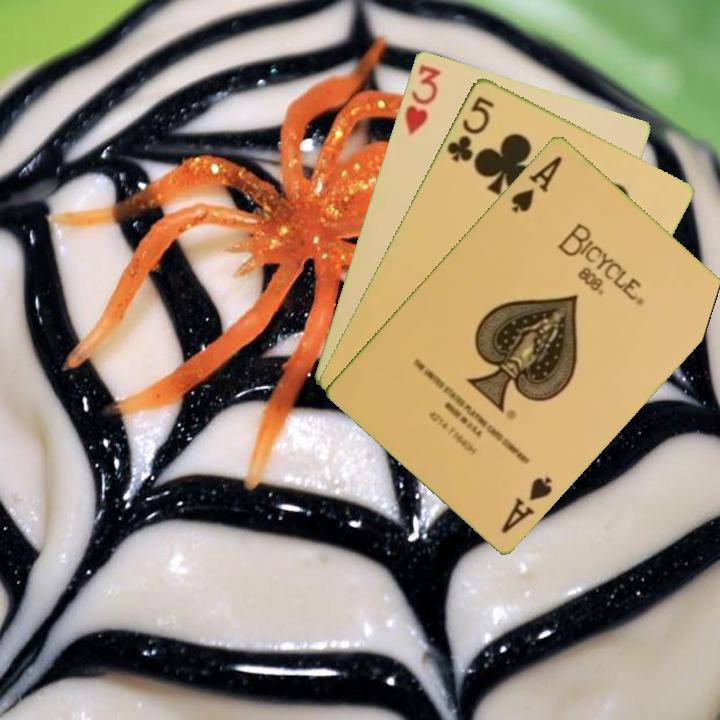3h: (401, 60, 444, 138)
5c: (443, 92, 497, 165)
As: (507, 151, 566, 216), (497, 472, 556, 536)
